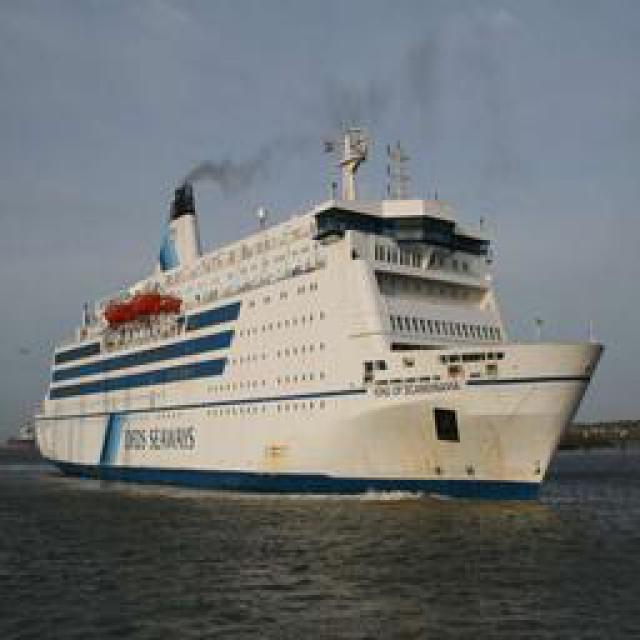Ship: (34, 135, 607, 480)
